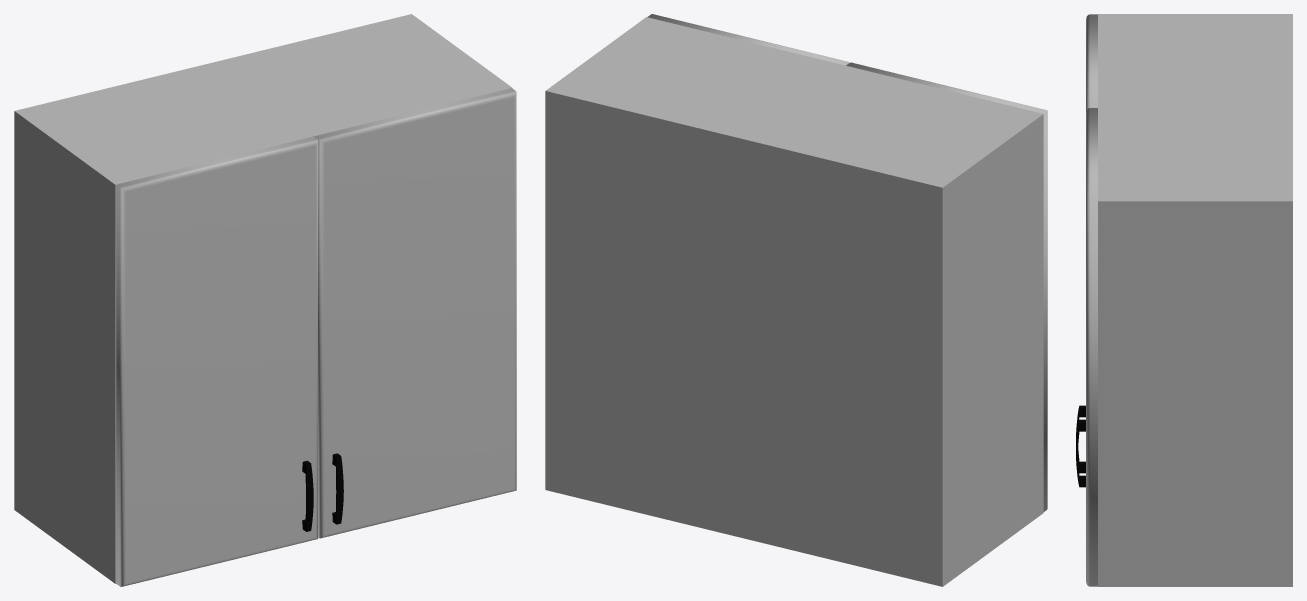
3 renders of one model, left to right at view 1: azimuth 30°, elevation 25°; view 2: azimuth 150°, elevation 25°; view 3: azimuth 270°, elevation 25°, orthographic. The views are drawn at different scales.
Parts seen in each view (by area): view 1: Box011, Box001, Box012; view 2: Box001, Box011, Box012; view 3: Box001, Box012, Box011, Obj3d66-503491-2-345.
Boxes of the visible parts, <box> form: Box011: <box>116,136,317,586</box>; Box001: <box>14,14,512,583</box>; Box012: <box>314,88,516,538</box>; Box001: <box>545,17,1043,586</box>; Box011: <box>846,62,1047,511</box>; Box012: <box>647,14,848,65</box>; Box001: <box>1098,14,1292,586</box>; Box012: <box>1086,108,1097,586</box>; Box011: <box>1086,14,1097,112</box>; Obj3d66-503491-2-345: <box>1076,419,1085,487</box>.
Size of the model in its own units: 0.75 by 0.72 by 0.3671.
2 materials, 1 textured.
